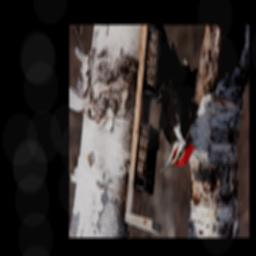Woodpecker: (152, 42, 197, 173)
